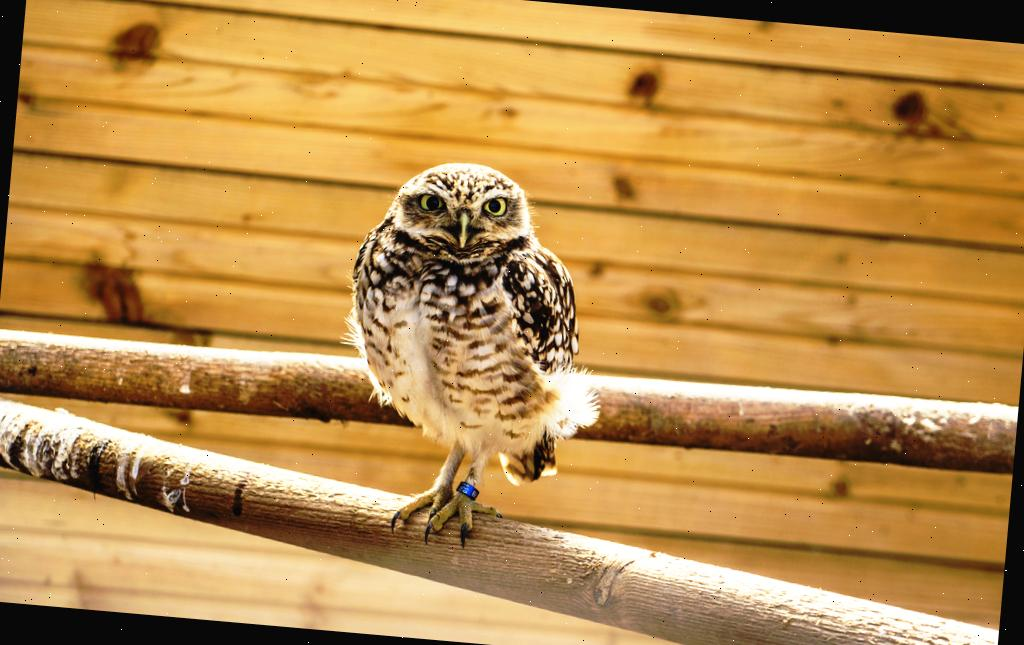Owl: (334, 158, 610, 550)
